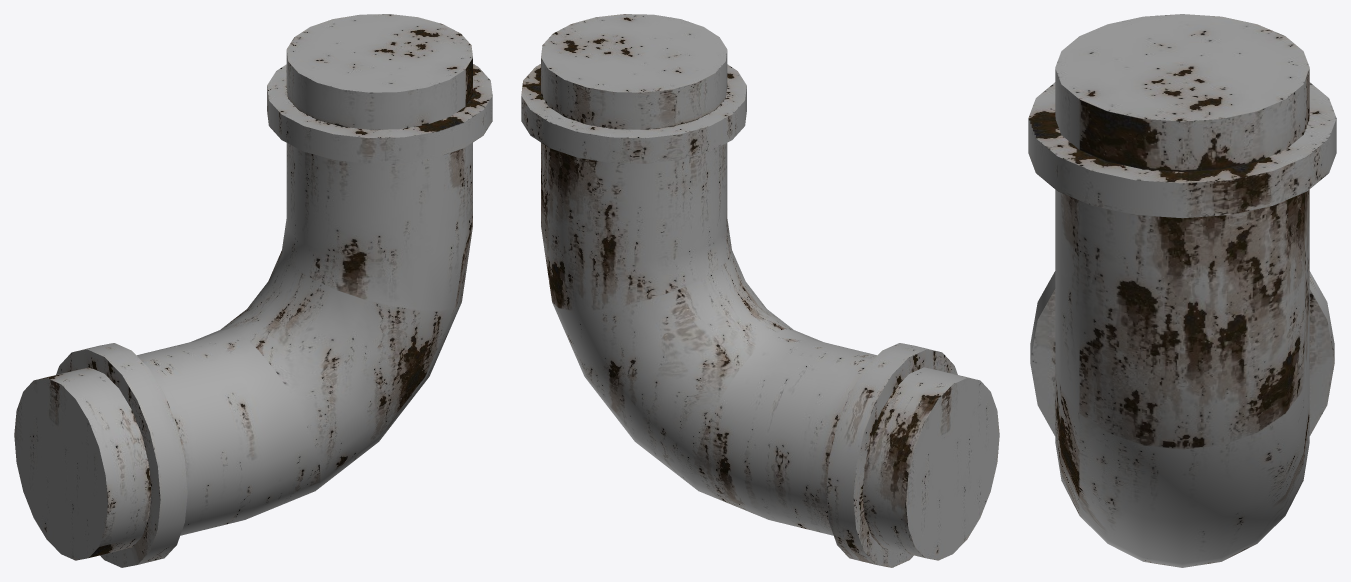
File: CornerPipe.fbx
3 views of the same model, side by side, from view 1: azimuth 30°, elevation 25°; view 2: azimuth 150°, elevation 25°; view 3: azimuth 270°, elevation 25° (orthographic). The views are drawn at different scales.
Visible parts, largest first — view 1: CornerPipe; view 2: CornerPipe; view 3: CornerPipe.
Part boxes in pixels (bbox=[...]): CornerPipe: bbox=[14, 14, 492, 567]; CornerPipe: bbox=[521, 14, 999, 567]; CornerPipe: bbox=[1028, 14, 1336, 567].
Size of the model in its own units: 5.12 by 5.16 by 2.41.
Materials: 1 (1 with a texture image).
